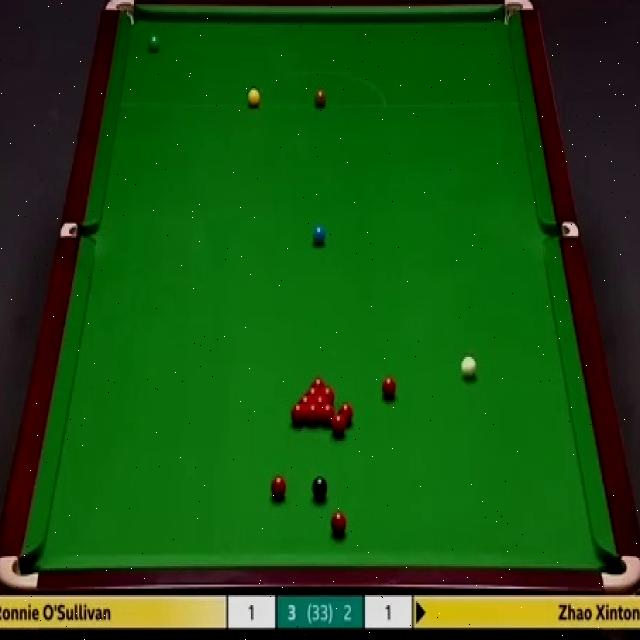black-ball: (312, 476, 329, 502)
blue-ball: (312, 226, 326, 246)
brown-ball: (313, 90, 327, 108)
green-ball: (148, 35, 160, 53)
red-ball: (269, 475, 287, 500), (330, 513, 347, 537), (382, 376, 396, 402), (320, 404, 336, 426), (290, 403, 305, 425), (332, 415, 346, 438), (338, 403, 352, 426), (306, 402, 320, 424), (321, 385, 335, 402), (308, 375, 326, 385), (305, 386, 320, 395), (312, 395, 328, 403), (298, 395, 312, 404)
white-ball: (459, 354, 477, 382)
yellow-ball: (247, 89, 260, 108)
